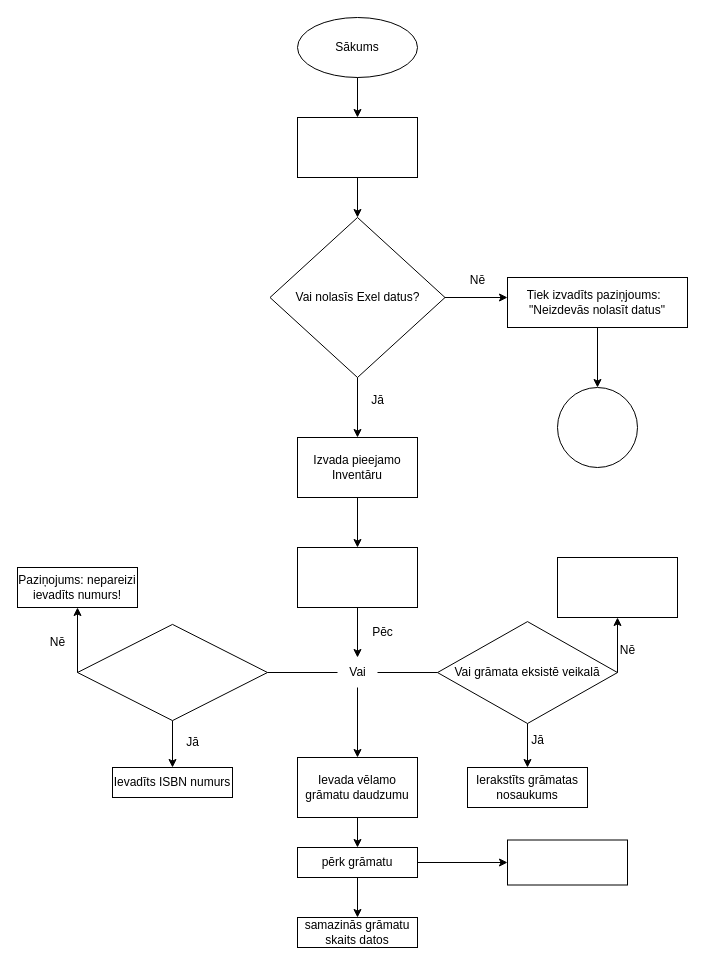
This 705x965 diagram has some shape labels left out. The centre of each missing label's shape, as x and y in pixels:
Beigas: pixel 597 427
Izvēlas grāmatu: pixel 357 577
Nolasam datus no Exel faila: pixel 357 147
Paziņojums: nav tādu grāmatu: pixel 617 587
Vai ievadītais ISBN numurs ir korekts?: pixel 172 672
